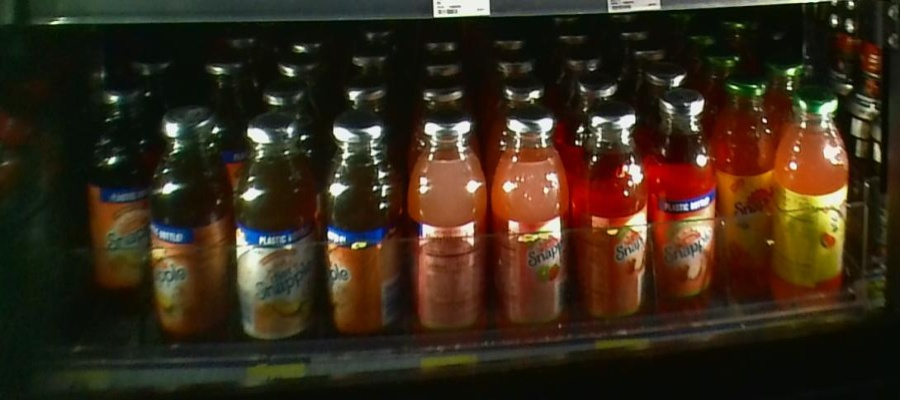bottle: (406, 110, 491, 354), (234, 111, 320, 350), (149, 107, 229, 353), (495, 117, 571, 349), (322, 111, 397, 345), (575, 108, 649, 338), (649, 81, 718, 327), (776, 86, 852, 303), (84, 63, 146, 295), (722, 80, 771, 300)
